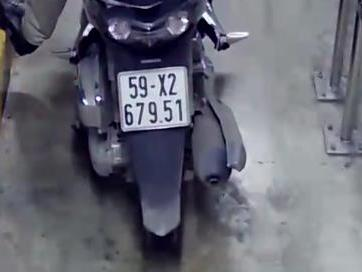num_plate: (117, 67, 190, 130)
